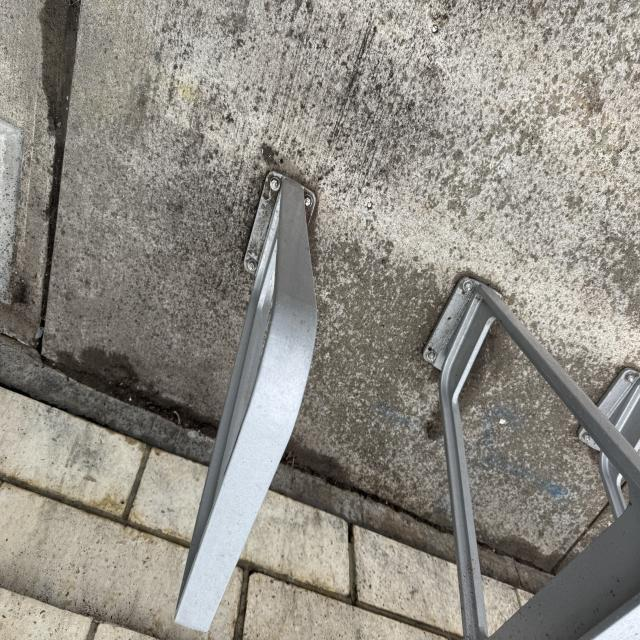Bicycle Rack: (426, 275, 640, 636), (173, 170, 320, 631)
